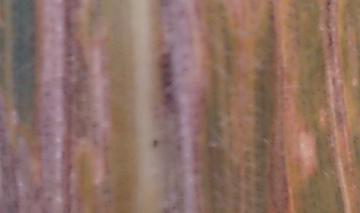tarspot: (151, 138, 159, 148)
